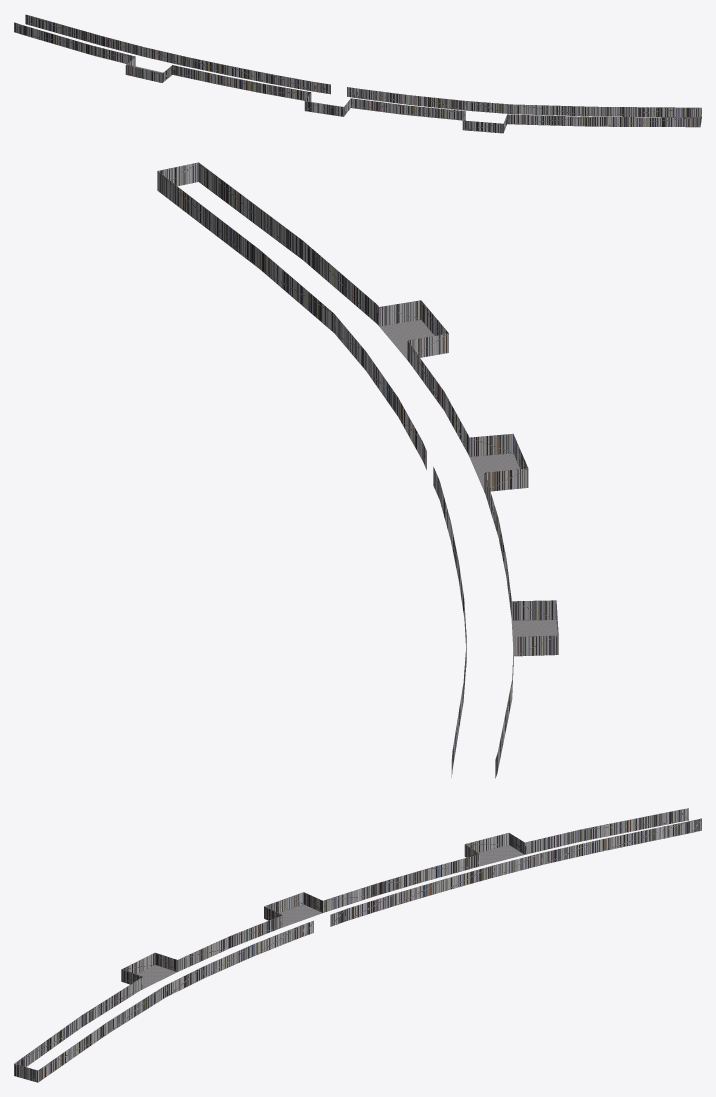
File: Dam_hitbox.fbx
3 views of the same model, one above another, from view 1: azimuth 30°, elevation 25°; view 2: azimuth 150°, elevation 25°; view 3: azimuth 270°, elevation 25° (orthographic). The views are drawn at different scales.
Visible parts, largest first — view 1: Dam2; view 2: Dam2; view 3: Dam2.
Boxes of the visible parts, left/top/right/bottom form: Dam2: left=14, top=14, right=701, bottom=133; Dam2: left=157, top=162, right=558, bottom=778; Dam2: left=14, top=808, right=701, bottom=1082.
Bounding box in the file's own units: 47.99 × 1.05 × 53.2.
1 material, 1 textured.
